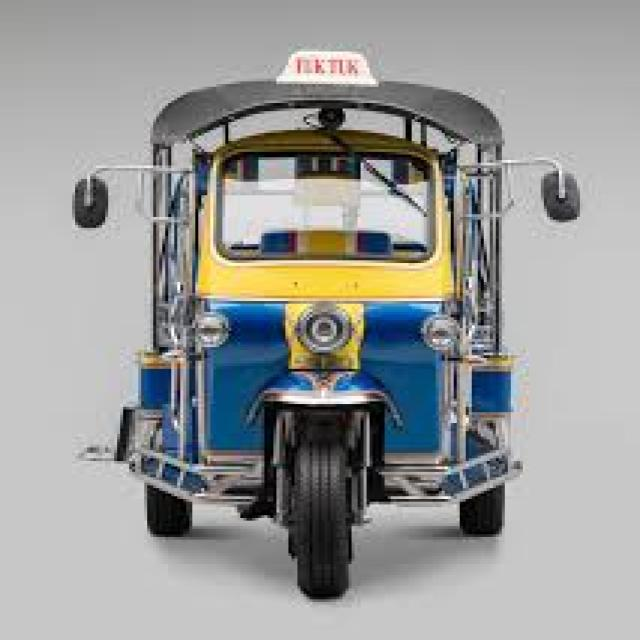tuktuk: (60, 21, 603, 608)
